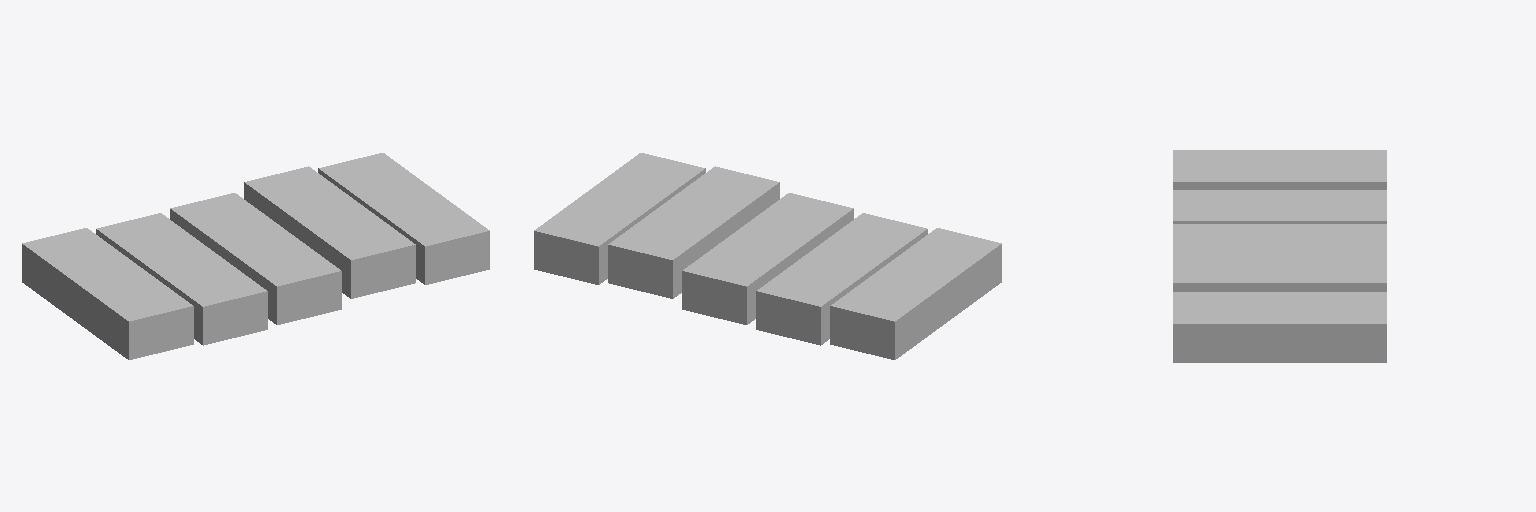
Rendered from road5.obj.
The picture shows the model from 3 angles: view 1: azimuth 30°, elevation 25°; view 2: azimuth 150°, elevation 25°; view 3: azimuth 270°, elevation 25°; orthographic projection.
Visible parts, largest first — view 1: example_road:pCube18, example_road:pCube15, example_road:pCube14, example_road:pCube17, example_road:pCube16; view 2: example_road:pCube18, example_road:pCube15, example_road:pCube14, example_road:pCube17, example_road:pCube16; view 3: example_road:pCube16, example_road:pCube18, example_road:pCube15, example_road:pCube17, example_road:pCube14.
Boxes of the visible parts, x1=… form: example_road:pCube18: x1=22, y1=228, x2=193, y2=359; example_road:pCube15: x1=244, y1=166, x2=415, y2=298; example_road:pCube14: x1=170, y1=193, x2=341, y2=324; example_road:pCube17: x1=96, y1=213, x2=267, y2=345; example_road:pCube16: x1=318, y1=153, x2=489, y2=284; example_road:pCube18: x1=830, y1=228, x2=1001, y2=359; example_road:pCube15: x1=608, y1=166, x2=779, y2=298; example_road:pCube14: x1=682, y1=193, x2=853, y2=324; example_road:pCube17: x1=756, y1=213, x2=927, y2=345; example_road:pCube16: x1=534, y1=153, x2=705, y2=284; example_road:pCube16: x1=1173, y1=292, x2=1386, y2=362; example_road:pCube18: x1=1173, y1=150, x2=1386, y2=189; example_road:pCube15: x1=1173, y1=252, x2=1386, y2=291; example_road:pCube17: x1=1173, y1=190, x2=1386, y2=223; example_road:pCube14: x1=1173, y1=224, x2=1386, y2=251.
Bounding box in the file's own units: 19.5 × 2.54 × 10.